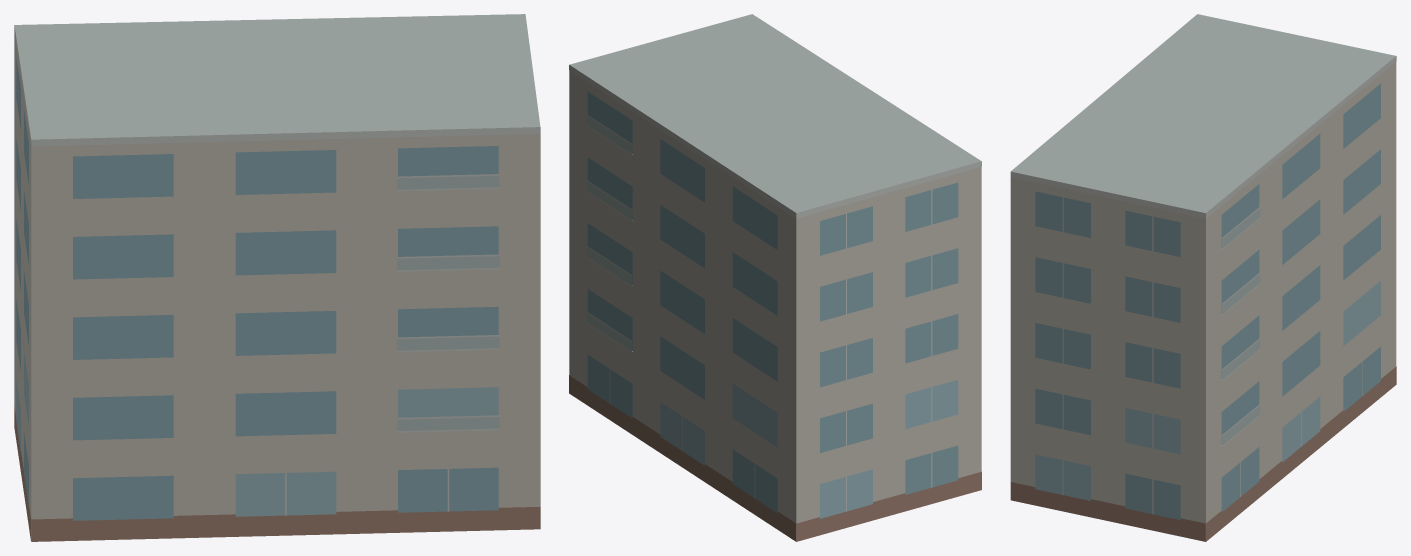
Rendered from survey-upis-32881861.glb.
3 renders of one model, left to right at view 1: azimuth 30°, elevation 25°; view 2: azimuth 150°, elevation 25°; view 3: azimuth 270°, elevation 25°, orthographic. The views are drawn at different scales.
Parts seen in each view (by area): view 1: survey-upis-32881861.tmp; view 2: survey-upis-32881861.tmp; view 3: survey-upis-32881861.tmp.
Part boxes in pixels (<box>): survey-upis-32881861.tmp: <box>14,14,540,541</box>; survey-upis-32881861.tmp: <box>569,14,981,541</box>; survey-upis-32881861.tmp: <box>1010,14,1396,541</box>.
Bounding box in the file's own units: 18.59 × 14.3 × 15.22.
